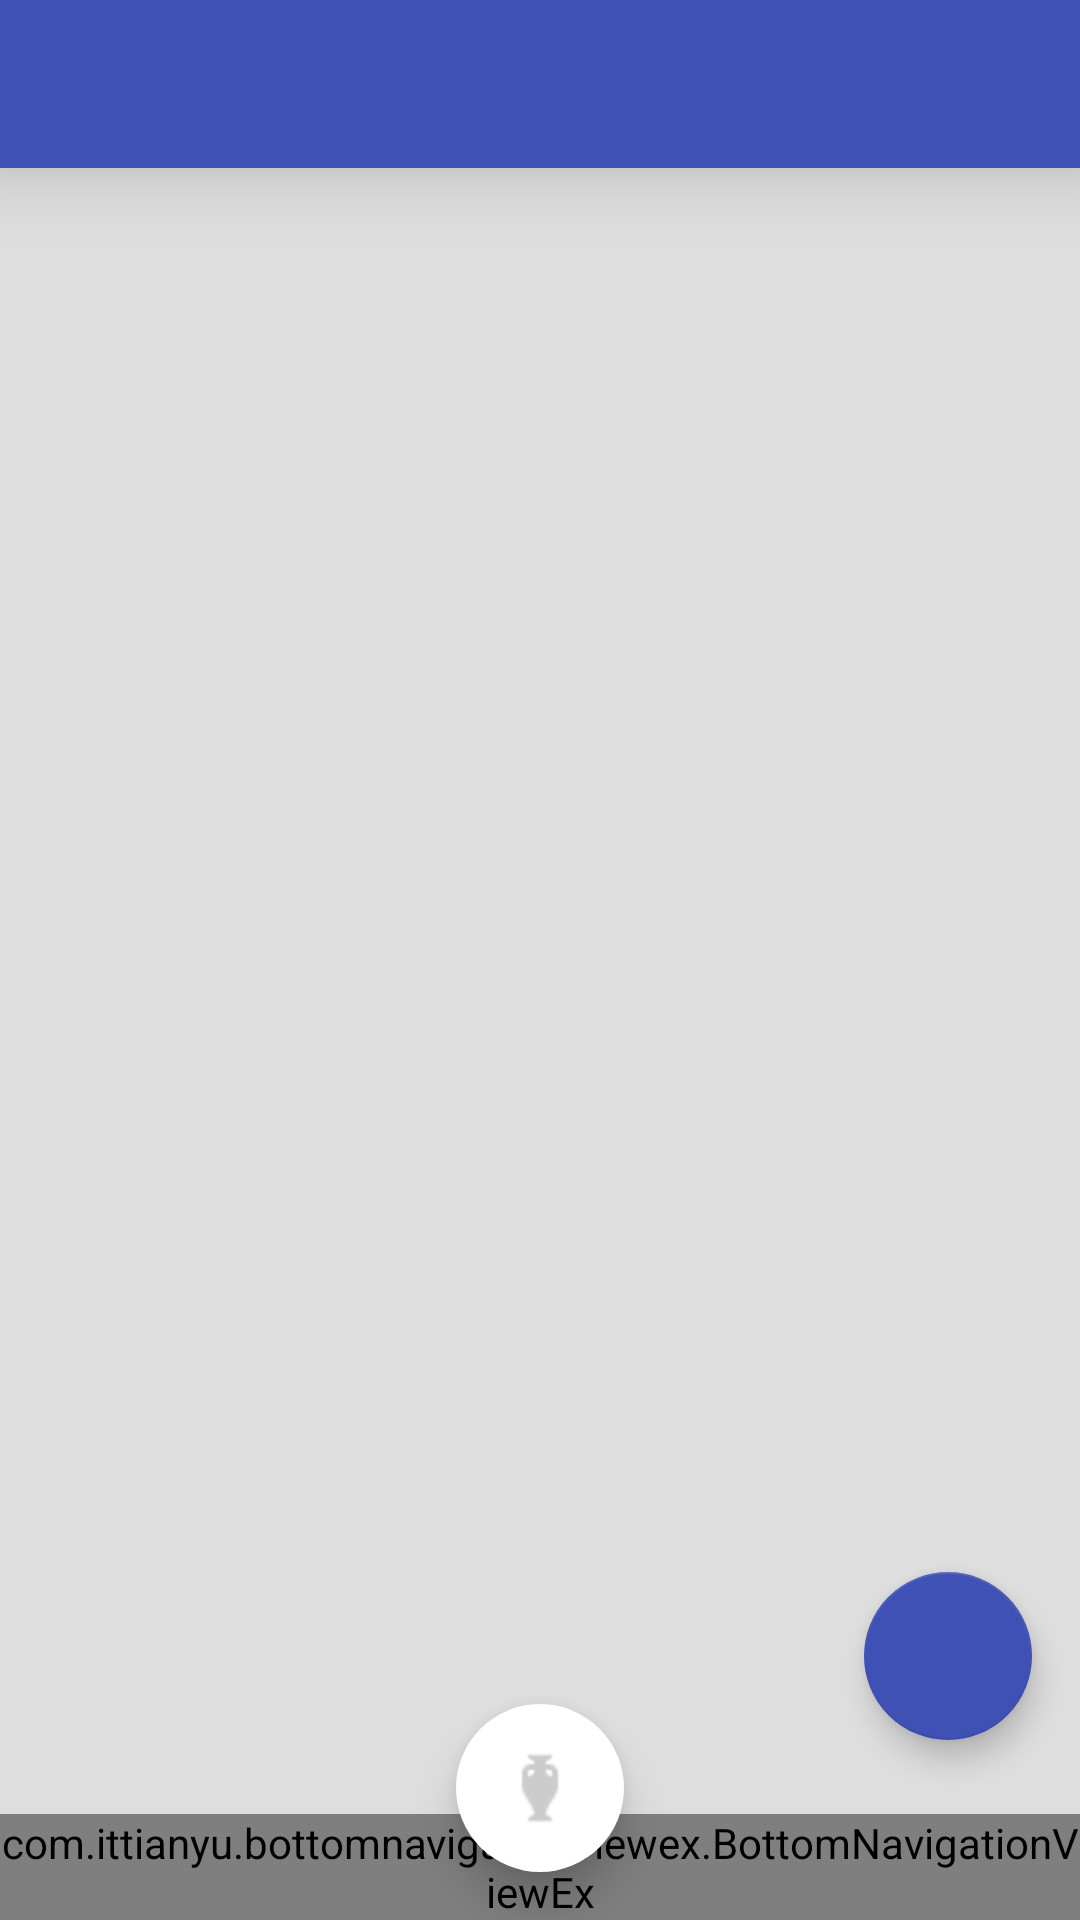

Named icons in this screenshot (1080 × 1920) and their centers, (x=x, y=y):
tournament: (x=540, y=1788)
